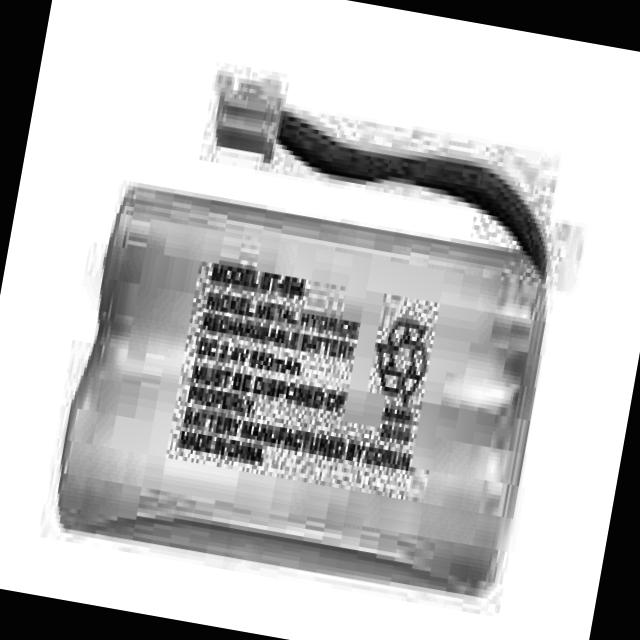Battery: (63, 183, 556, 588)
